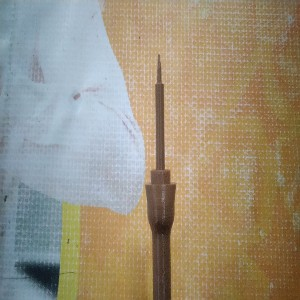solder: (144, 53, 176, 300)
